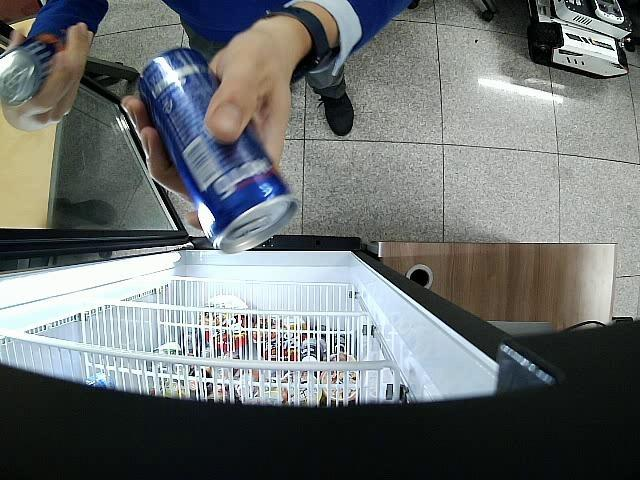16_hot6: (138, 46, 298, 255), (0, 30, 64, 106)
